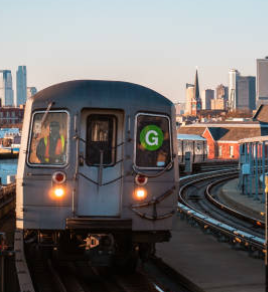train: (15, 81, 177, 230)
